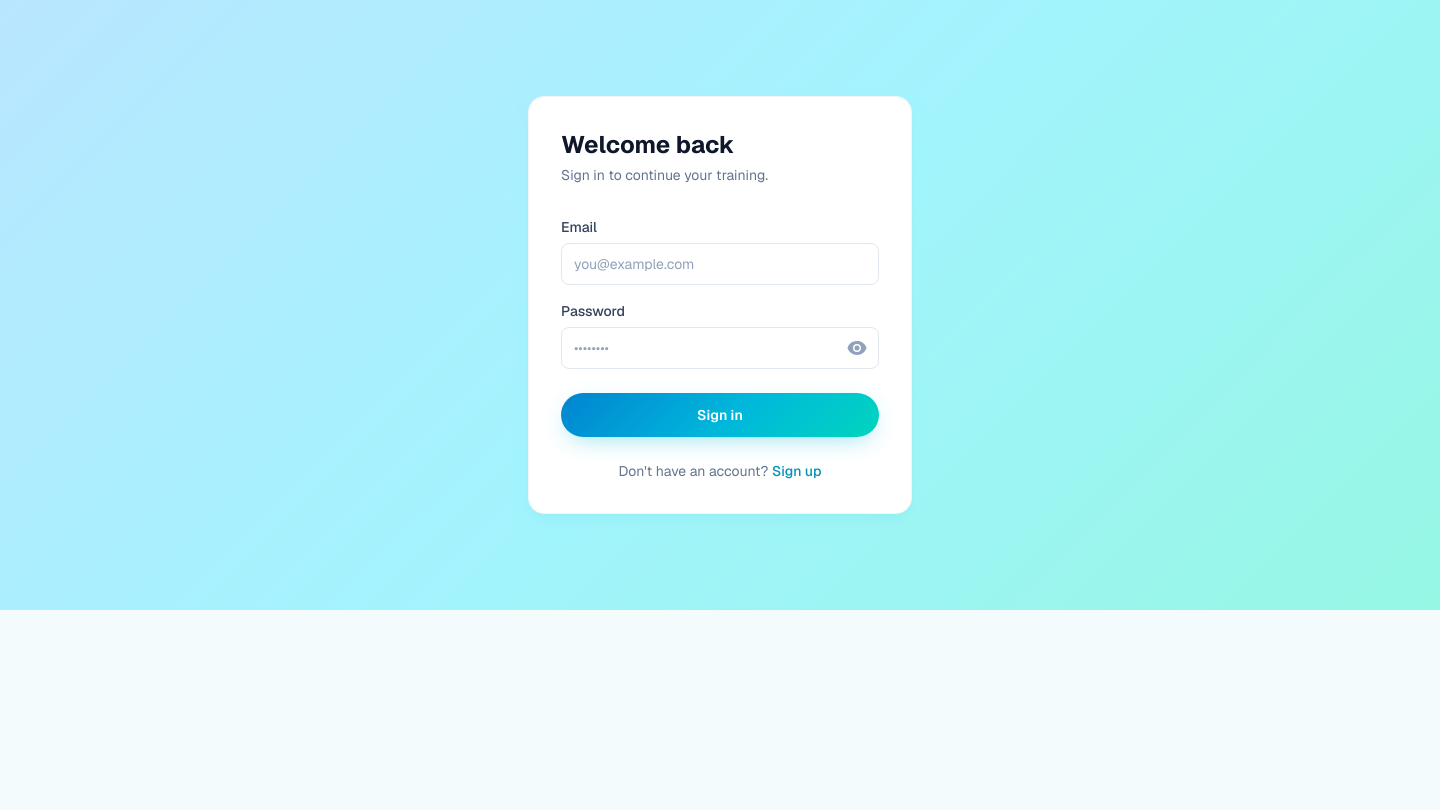
Test: SignInPage › shows 'Signing in…' and disables the button while submitting
Type "jane@example.com" into the field labelled "Email" at coordinates (720, 264), box x1=561 y1=243 x2=879 y2=285
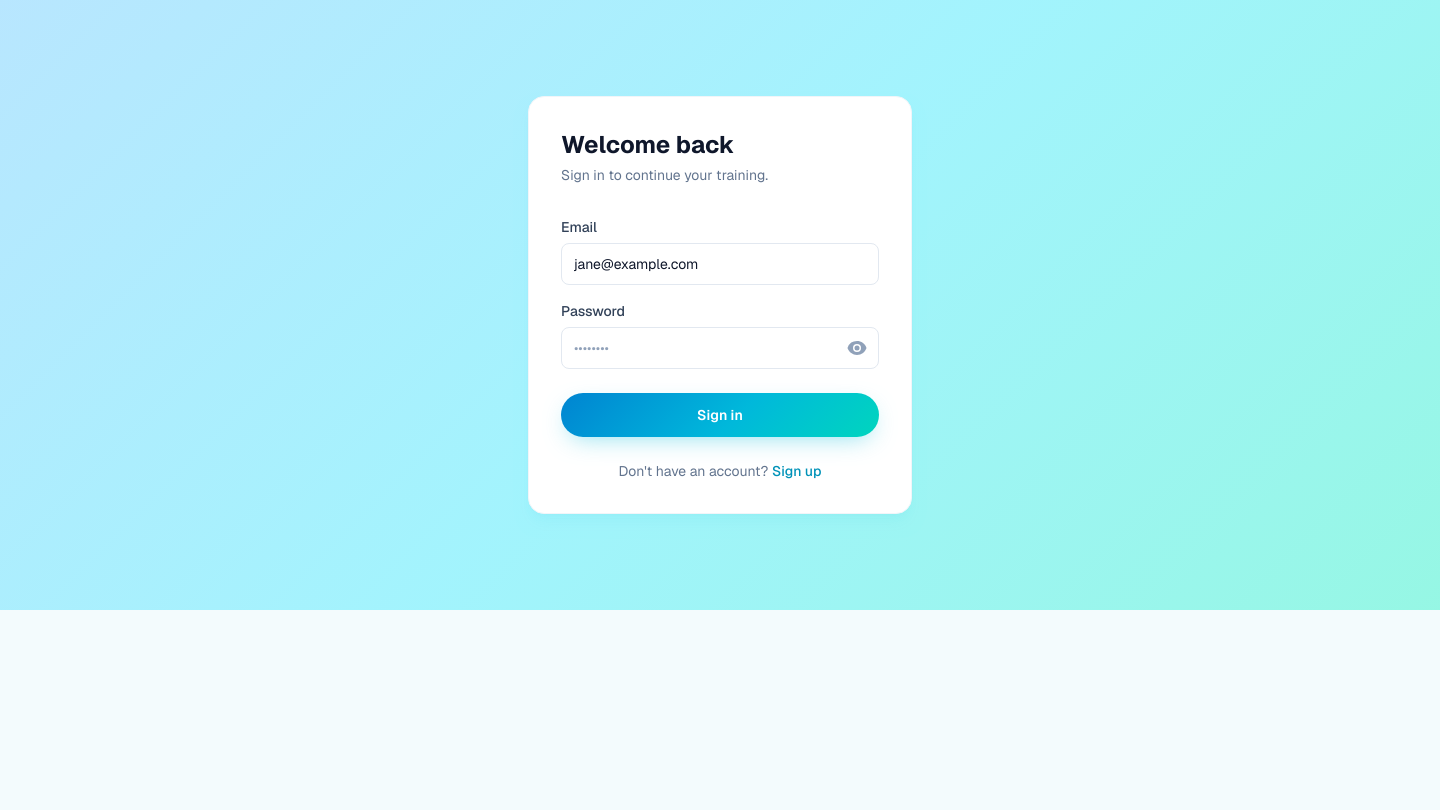
Type "hunter2222" into the password field labelled "Password" at coordinates (720, 348), box x1=561 y1=327 x2=879 y2=369
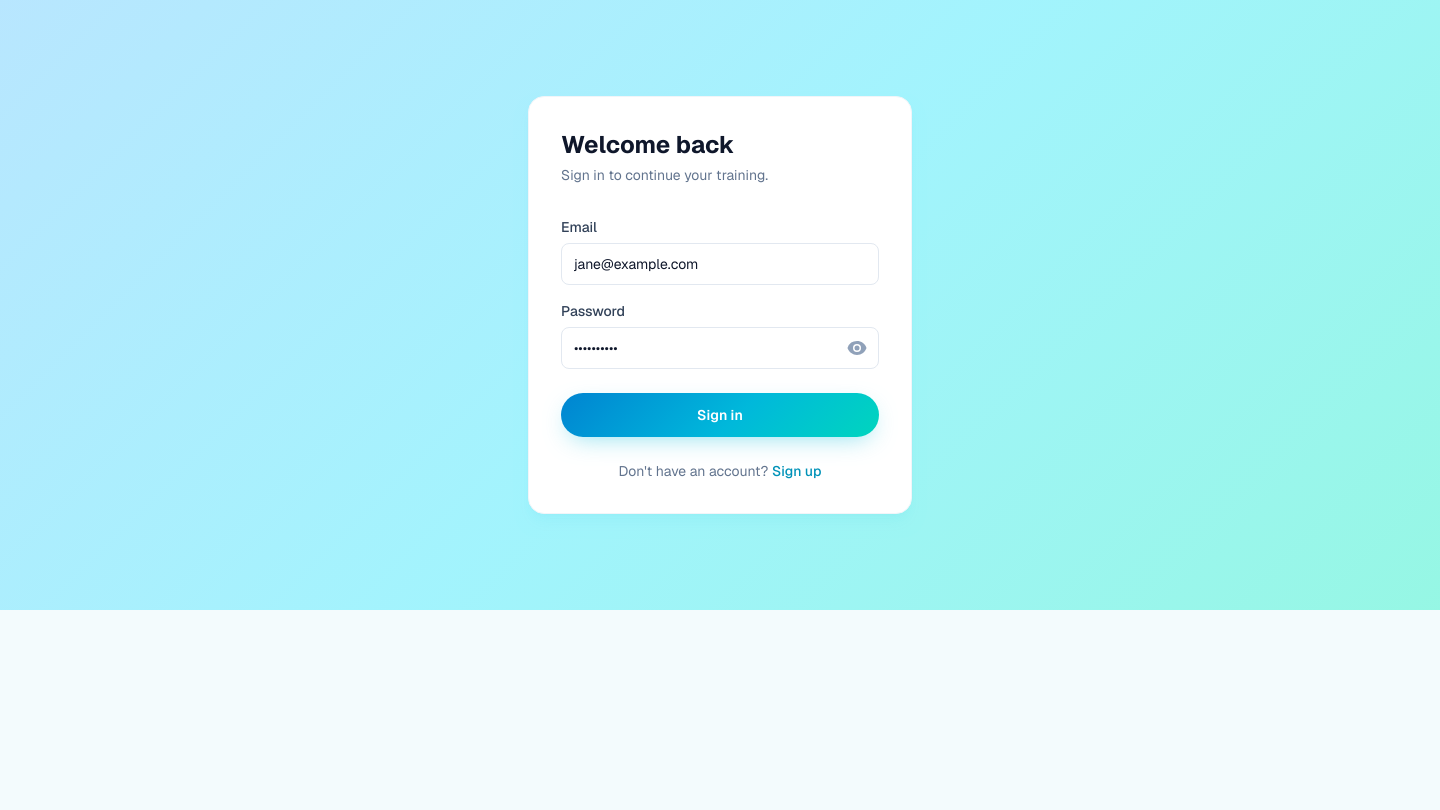
Click the button "Sign in" at coordinates (720, 415), box x1=561 y1=393 x2=879 y2=437
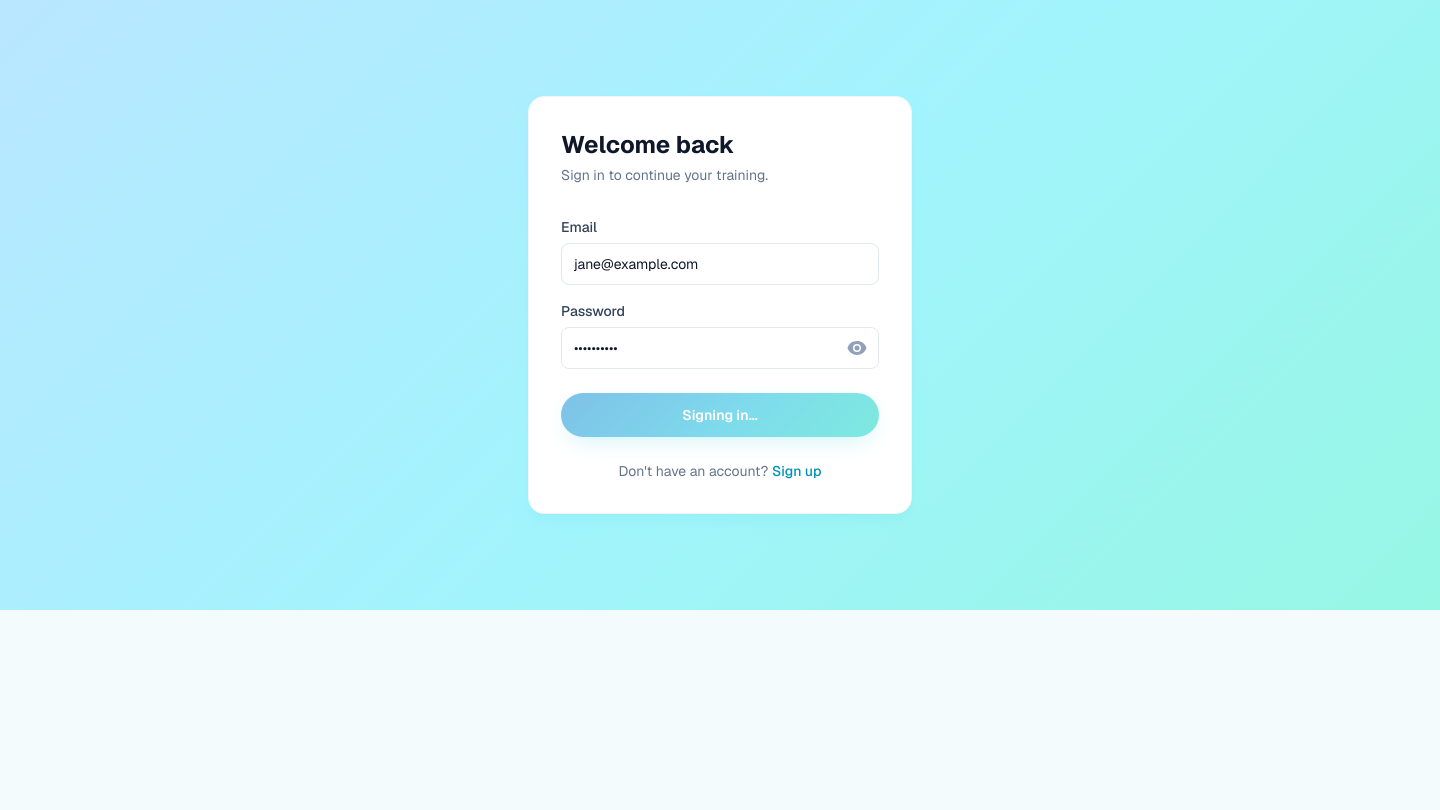
Result: the button "Signing in…" is disabled at x1=561 y1=393 x2=879 y2=437
